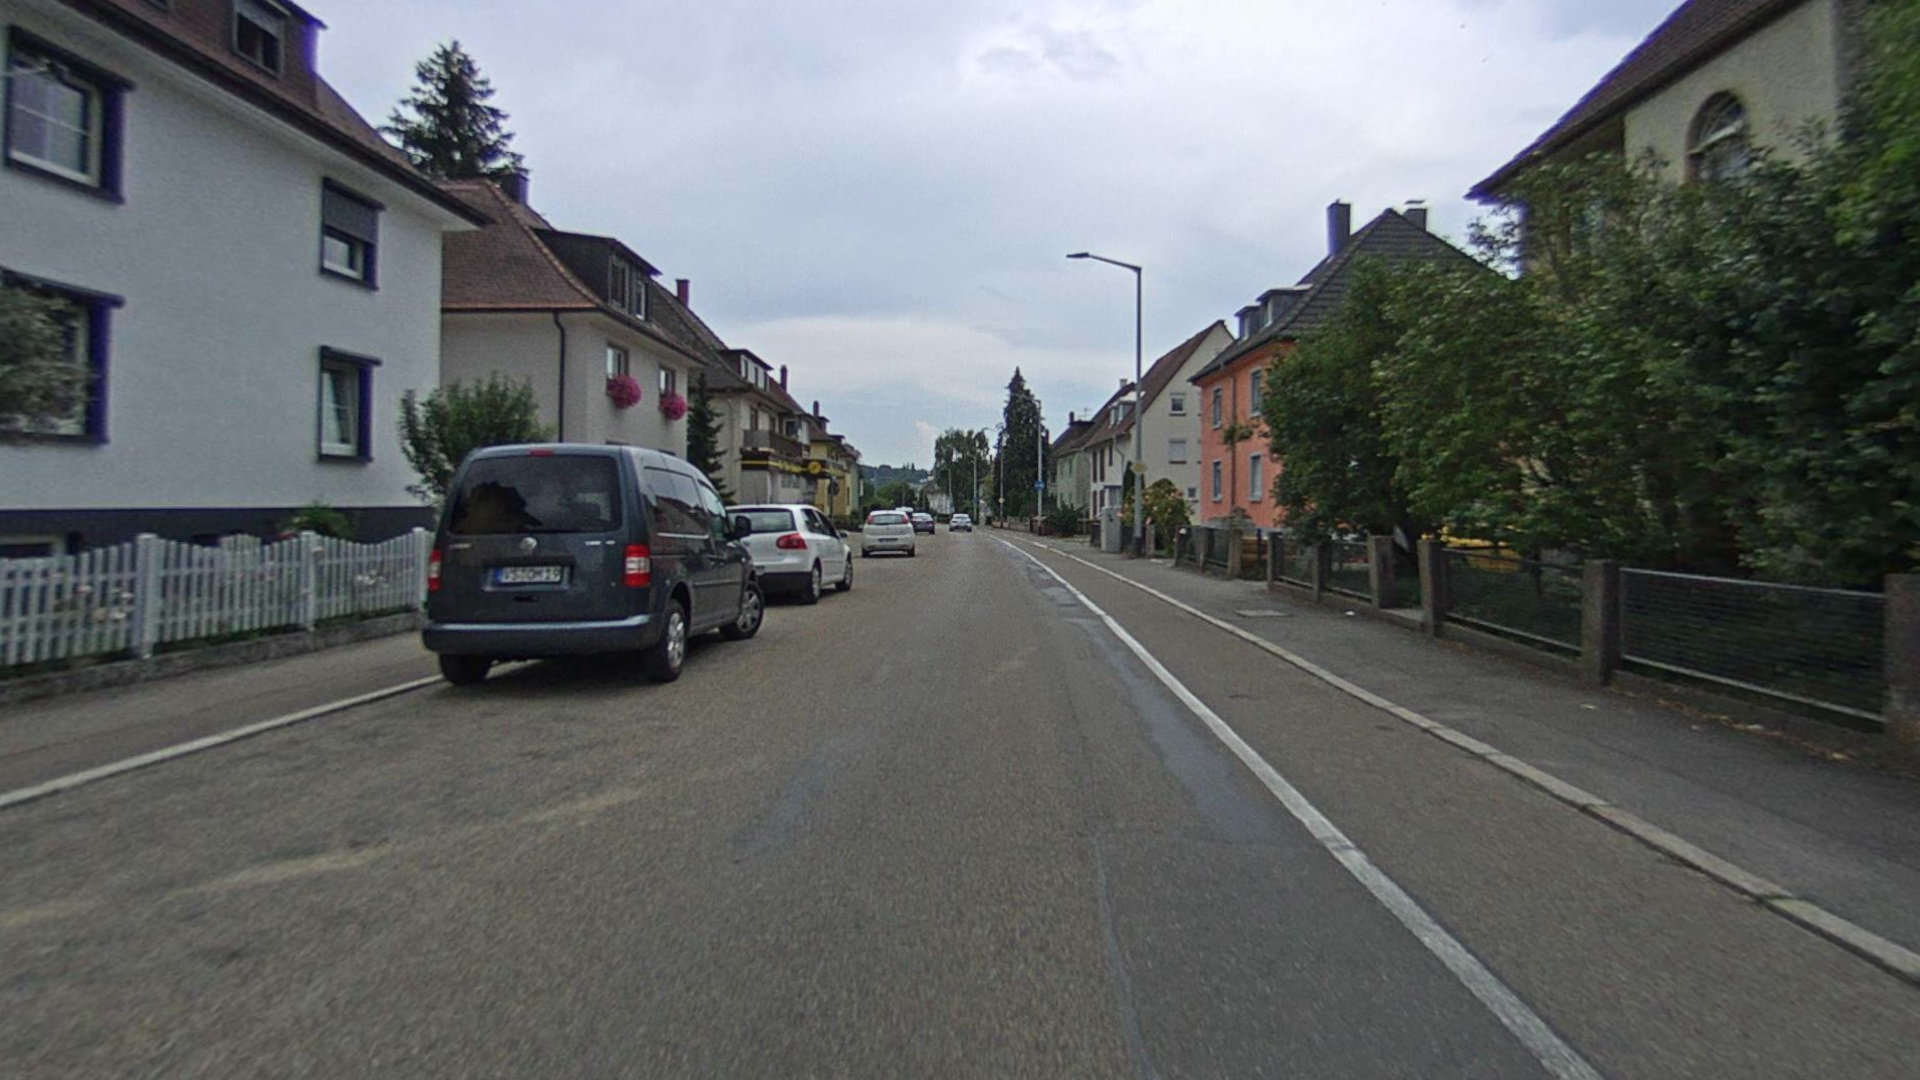car: (418, 440, 766, 687)
